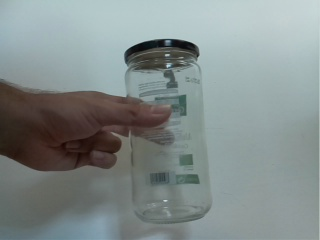pote cristal: (121, 37, 218, 229)
